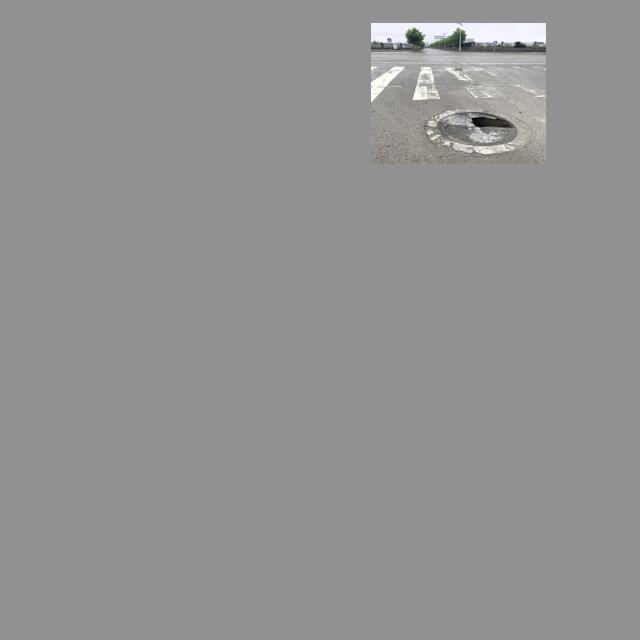broke: (423, 105, 538, 155)
